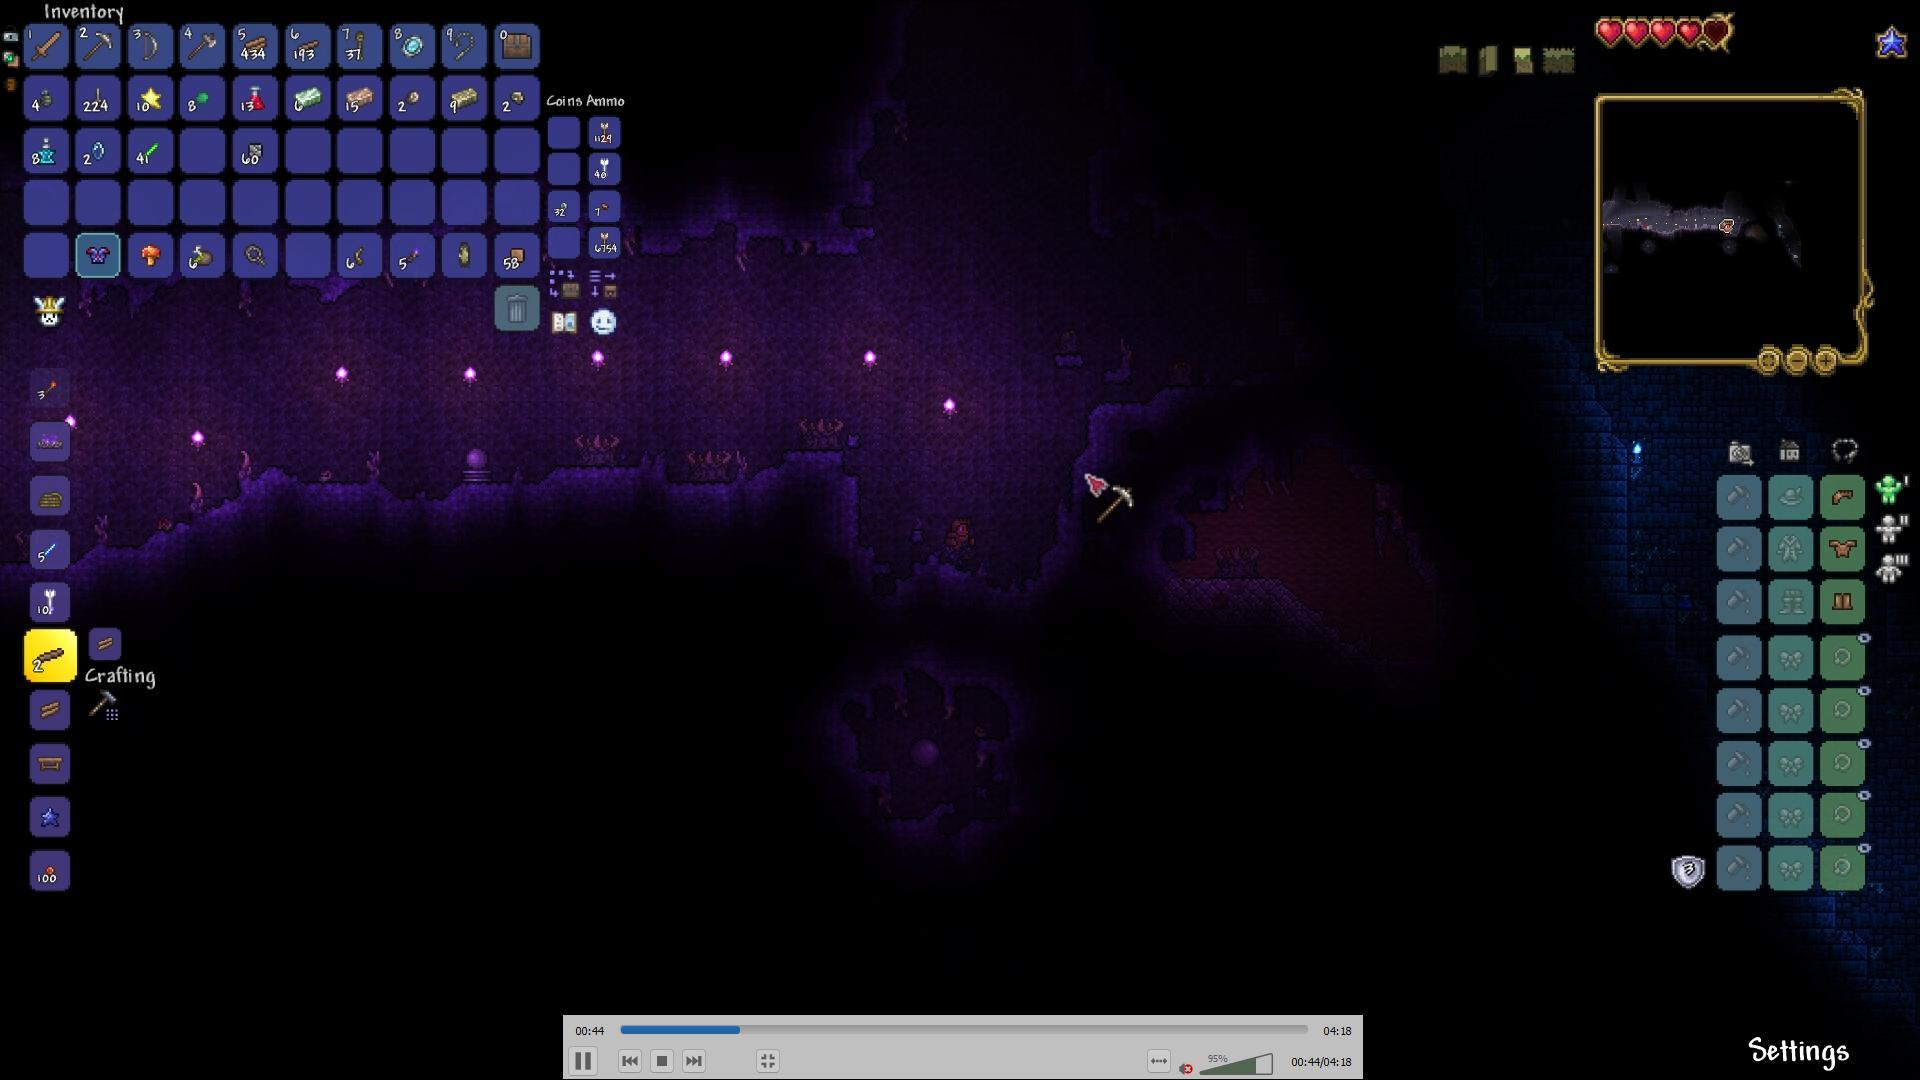altar: (794, 415, 847, 454), (572, 434, 621, 465)
chest: (500, 30, 535, 62)
glowstick: (137, 141, 162, 164)
potion: (244, 84, 264, 109)
recallP: (36, 138, 61, 167)
star: (138, 86, 162, 109)
